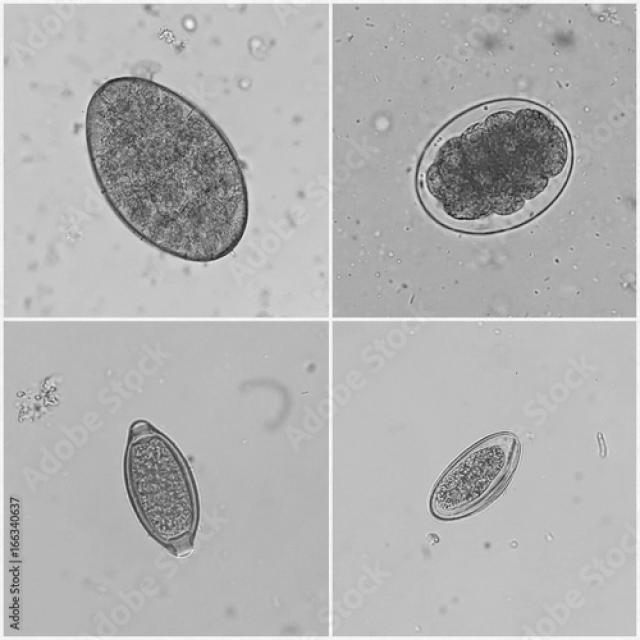Ancylostoma Spp: (404, 84, 580, 244)
Enterobius Vermicularis: (424, 427, 524, 523)
Fasciola Hepatica: (82, 73, 256, 260)
Trichuris Trichiura: (117, 415, 208, 562)
